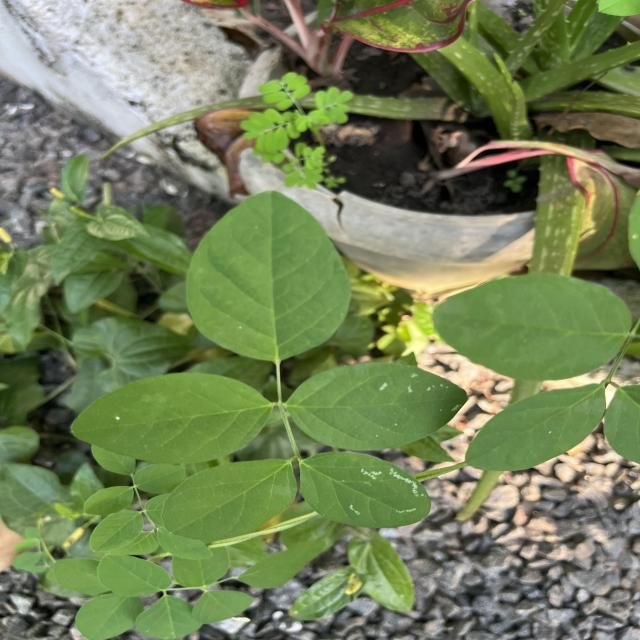Clitoria ternatea: (184, 188, 354, 364), (69, 370, 275, 465), (284, 362, 470, 452), (162, 458, 298, 542), (299, 450, 432, 530)
